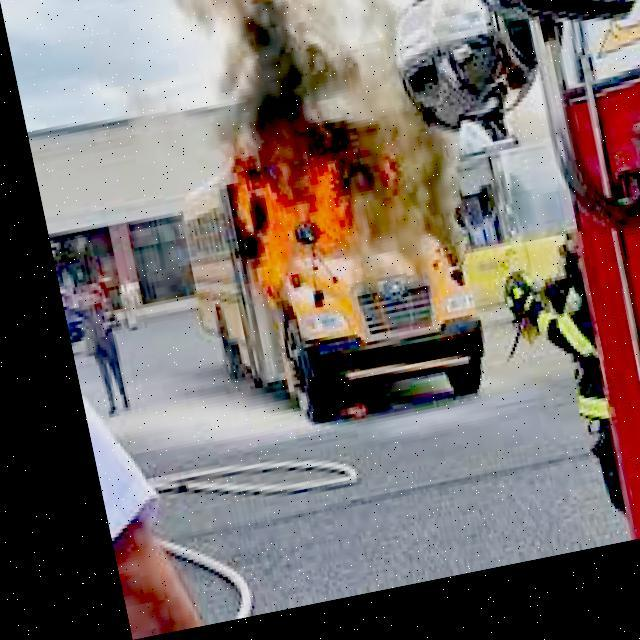Fire: (210, 126, 384, 322)
